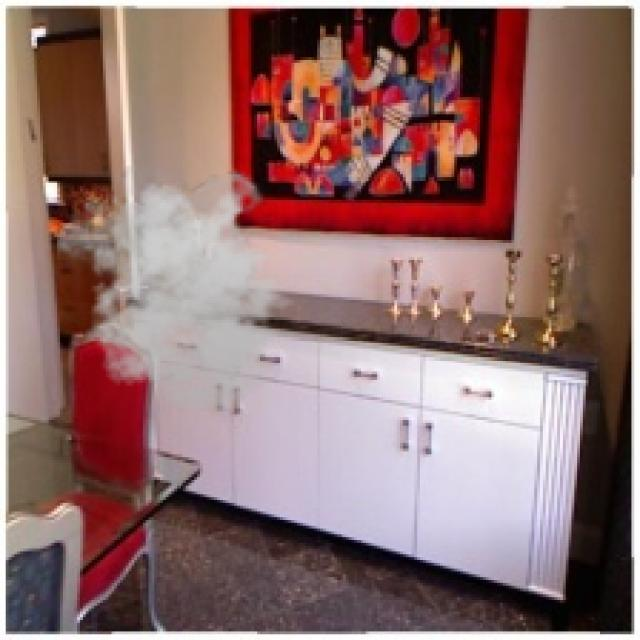smoke: (57, 166, 306, 417)
